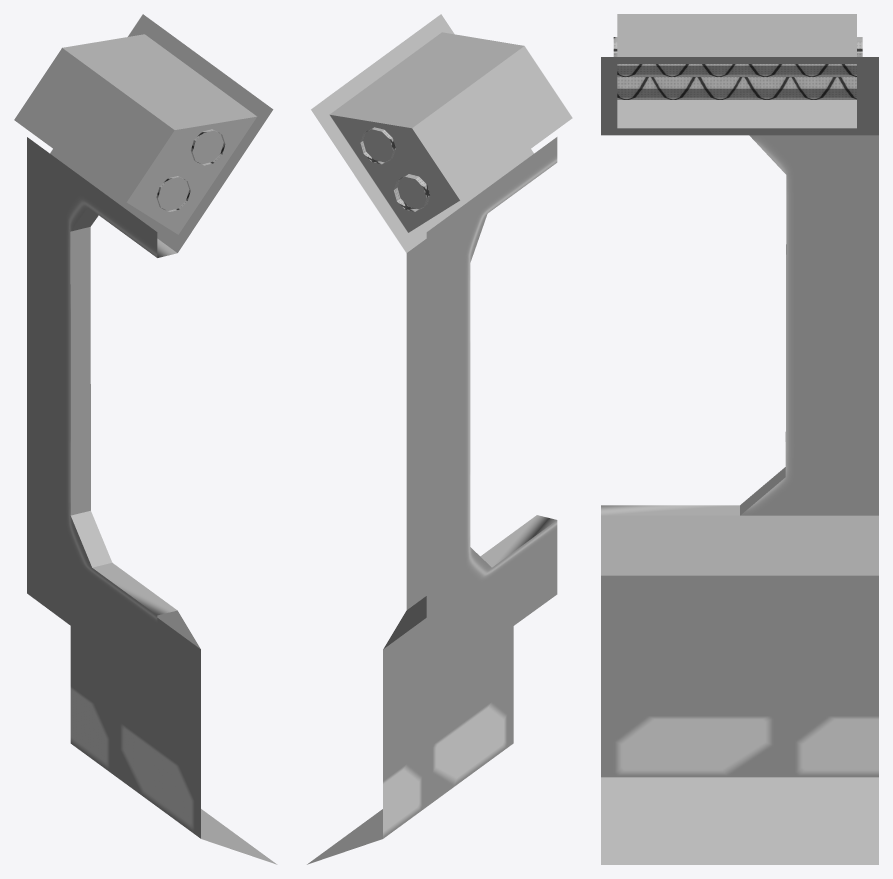
Rendered from PanelPipesHoleR.fbx.
3 views of the same model, side by side, from view 1: azimuth 30°, elevation 25°; view 2: azimuth 150°, elevation 25°; view 3: azimuth 270°, elevation 25° (orthographic). The views are drawn at different scales.
Parts seen in each view (by area): view 1: PanelPipesHoleR; view 2: PanelPipesHoleR; view 3: PanelPipesHoleR.
Part boxes in pixels (x1=…): PanelPipesHoleR: x1=14, y1=14, x2=277, y2=864; PanelPipesHoleR: x1=307, y1=14, x2=572, y2=864; PanelPipesHoleR: x1=601, y1=14, x2=878, y2=864.
Size of the model in its own units: 4.77 by 24 by 7.5.
